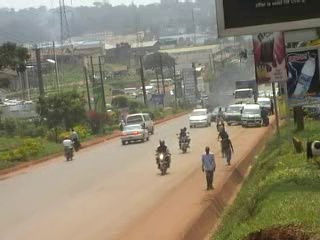Car: (119, 122, 151, 144), (186, 106, 212, 128), (209, 104, 227, 123)
Motorcycle: (154, 137, 172, 177), (174, 125, 191, 156), (60, 134, 75, 161), (214, 112, 226, 133)
